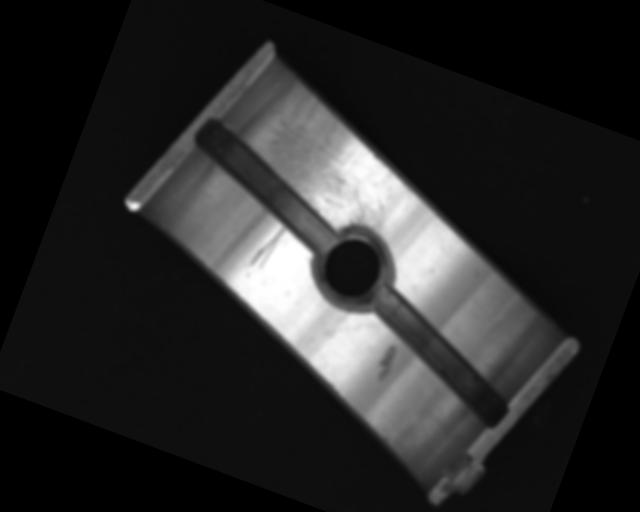bruise: (371, 341, 404, 386)
gap: (340, 280, 535, 430), (172, 115, 357, 254)
hole: (304, 220, 403, 317)
nick: (248, 217, 287, 274)
scratch: (243, 72, 434, 246)
